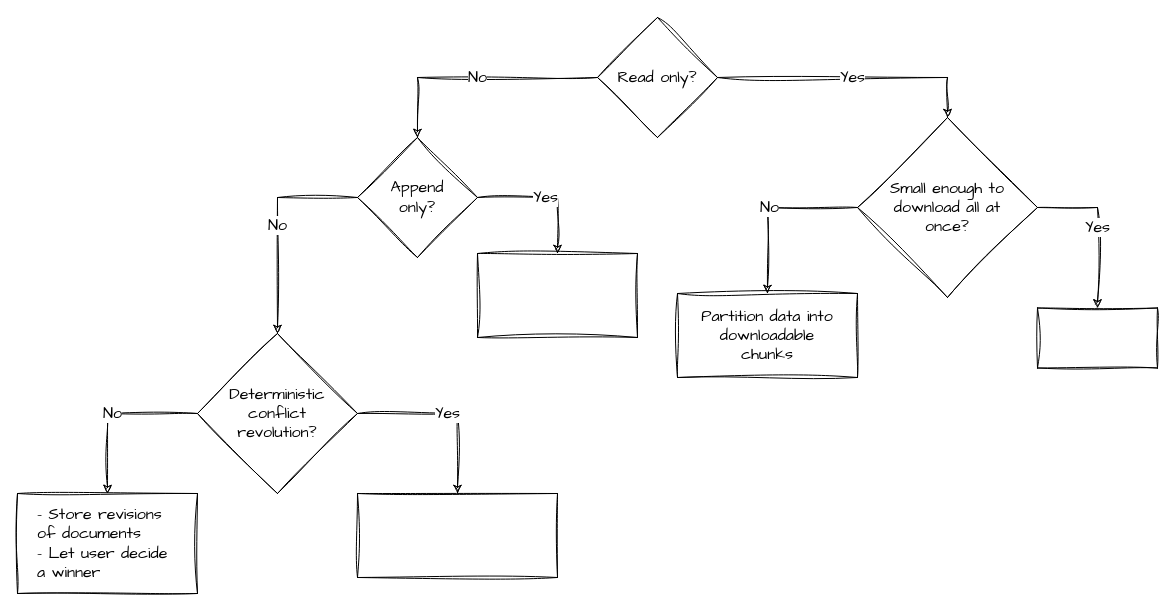
Some shapes in this 1175 by 611 pixel diagram are drawn without their labels. The shapes that lost their labels are listed below. From the top down, each one's centre as x and y in pixels, then its label:
the point at 557,295: Model as CRDT 1 Replica = 1 DB
the point at 1097,337: Download on demand
the point at 457,535: Model as CRDT 1 Replica = 1 Record
